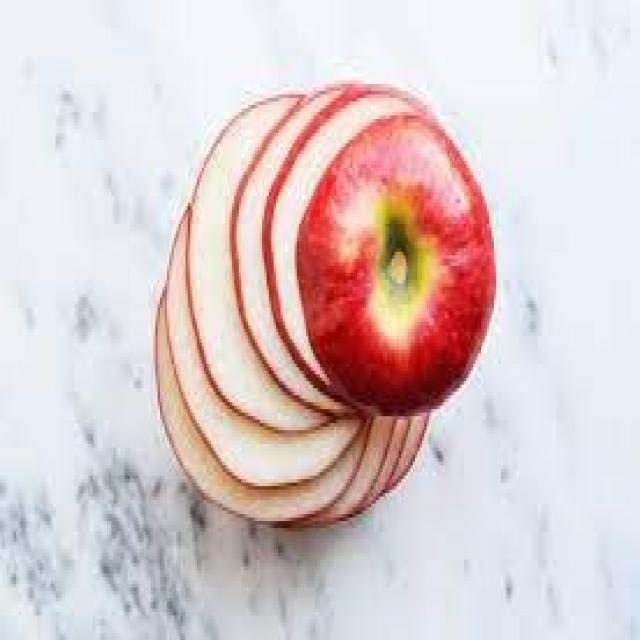Apple: (148, 199, 406, 542), (311, 116, 503, 417)
